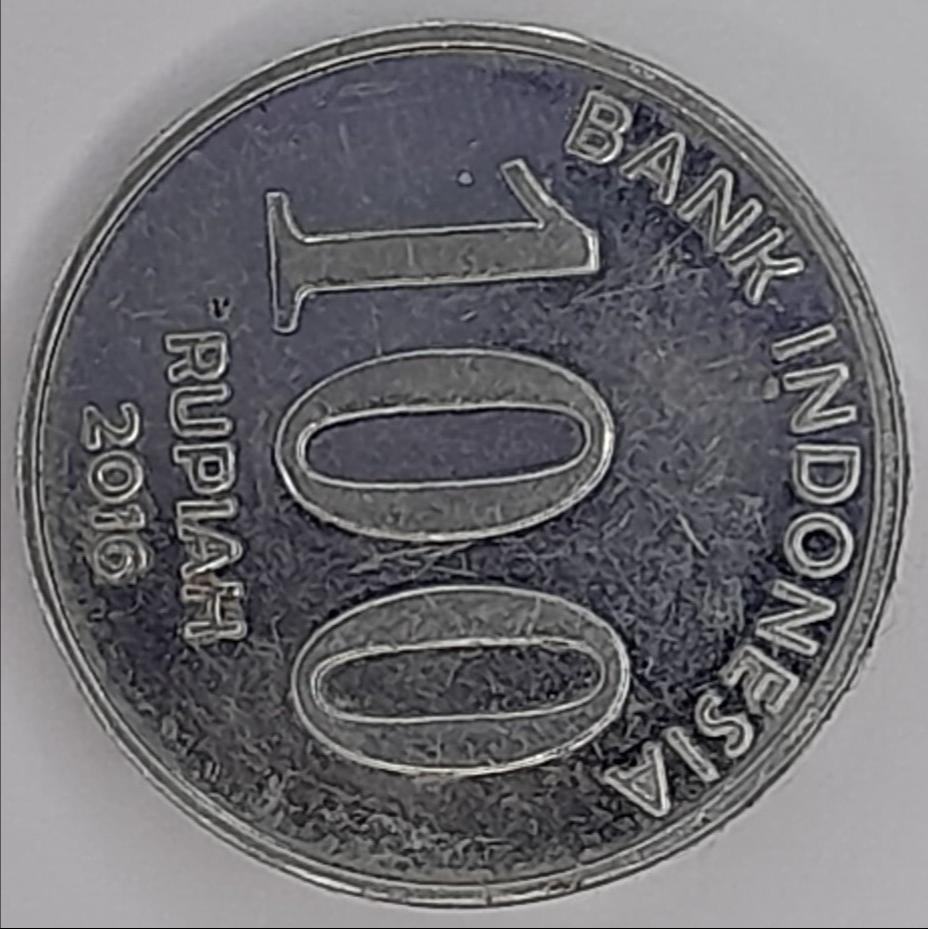coin_100_e2016: (11, 14, 915, 912)
